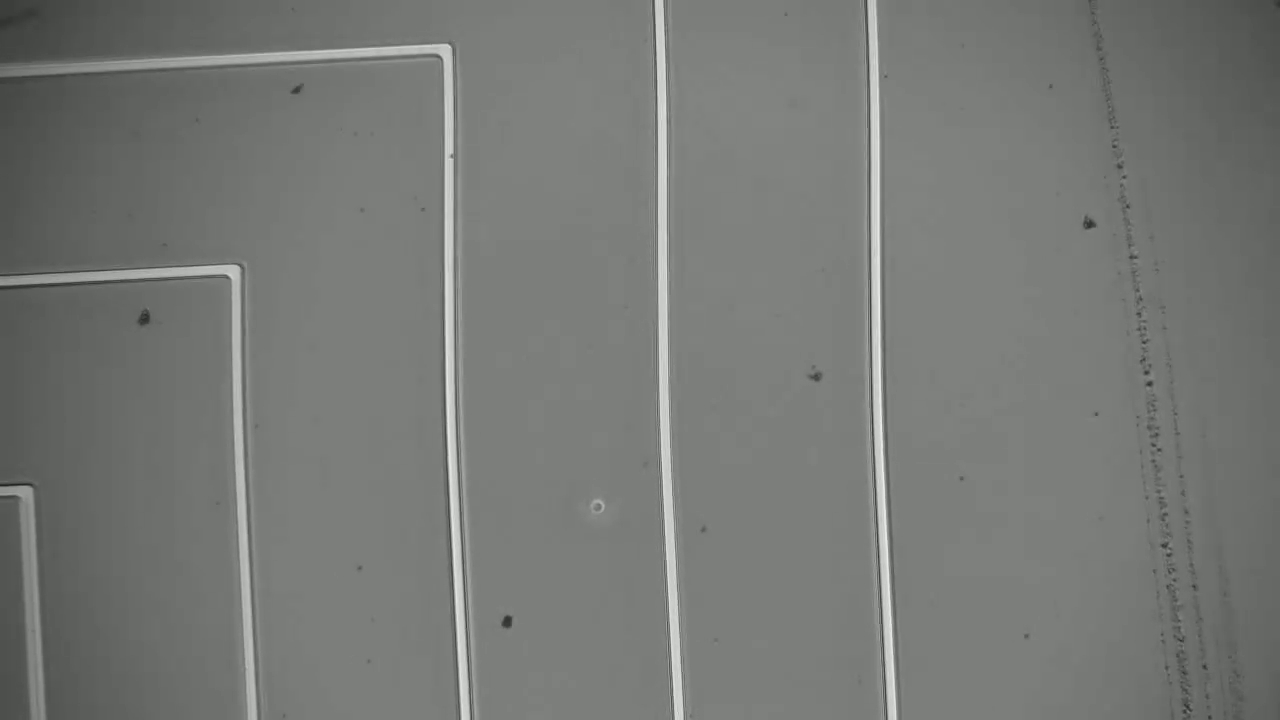scratch: (1090, 8, 1258, 720)
